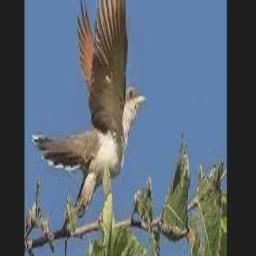Cuckoo: (32, 0, 147, 213)
